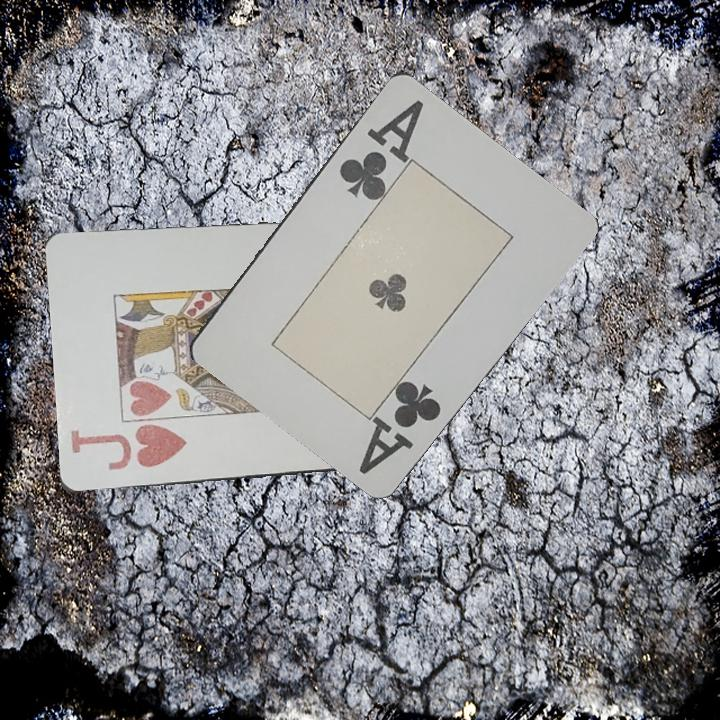Ac: (335, 95, 427, 203), (355, 376, 446, 477)
Jh: (66, 423, 189, 474)
